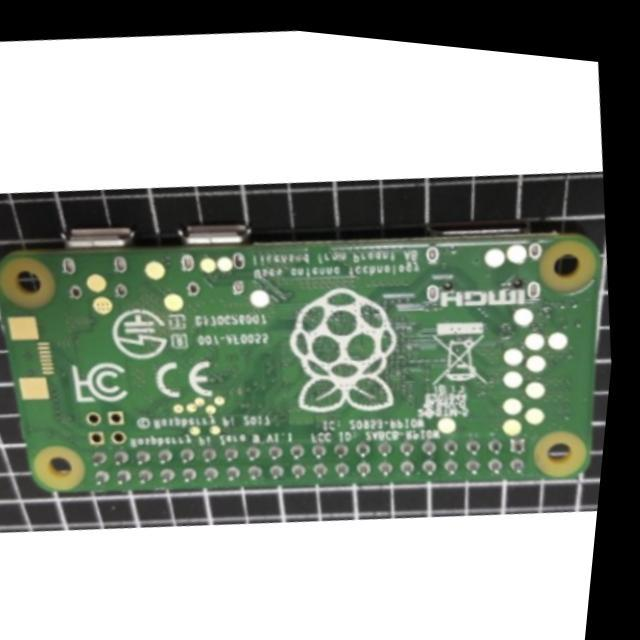Raspberry-Pi-Zero-WH: (1, 226, 600, 492)
